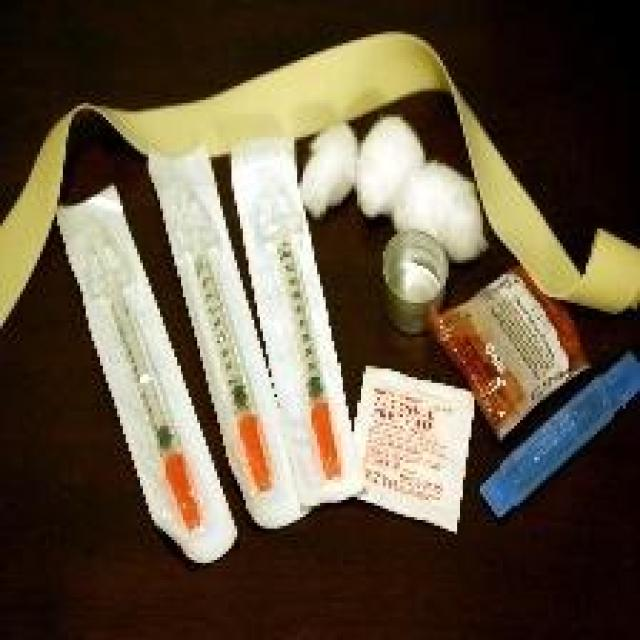syringe: (64, 164, 217, 539), (172, 204, 280, 538), (264, 204, 372, 506), (505, 327, 634, 562)
